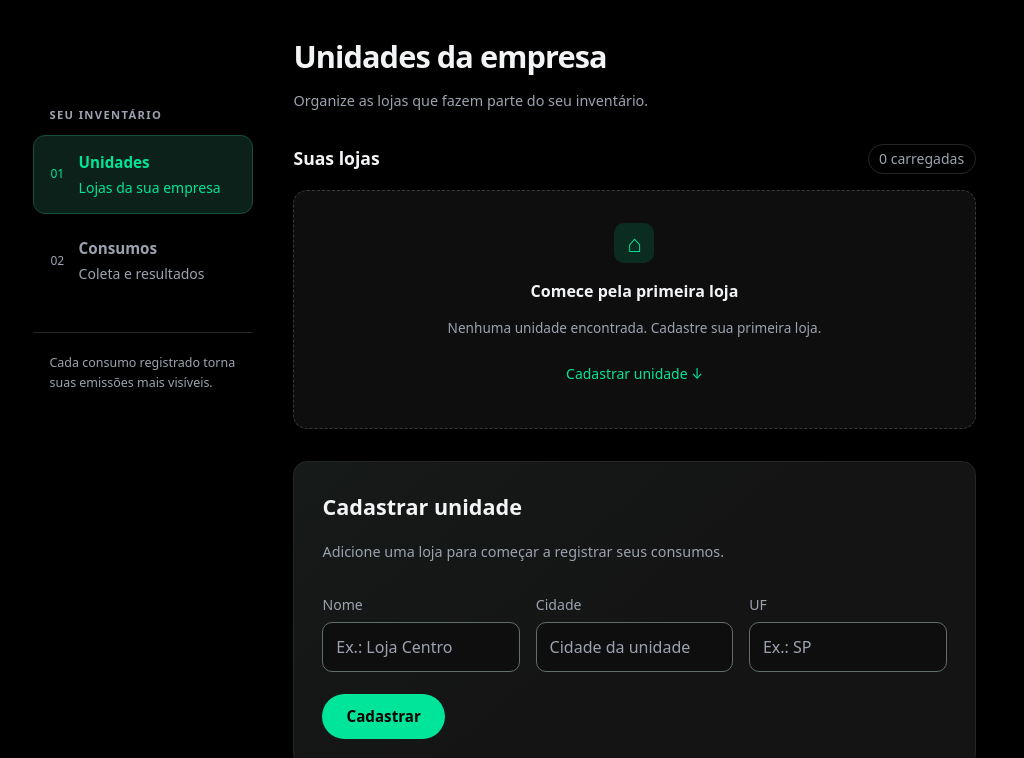
lista vazia possui instrução e campos rotulados
Expected: the text "Nenhuma unidade encontrada. Cadastre sua primeira loja." is shown, [448, 318, 821, 337]
Expected: the field labelled "Nome" is shown, [322, 622, 520, 672]
What coordinates should you click on to do the following:
click the link "02 Consumos Coleta e resultados"
I would click on:
 (128, 261)
Its box is [50, 238, 205, 283].
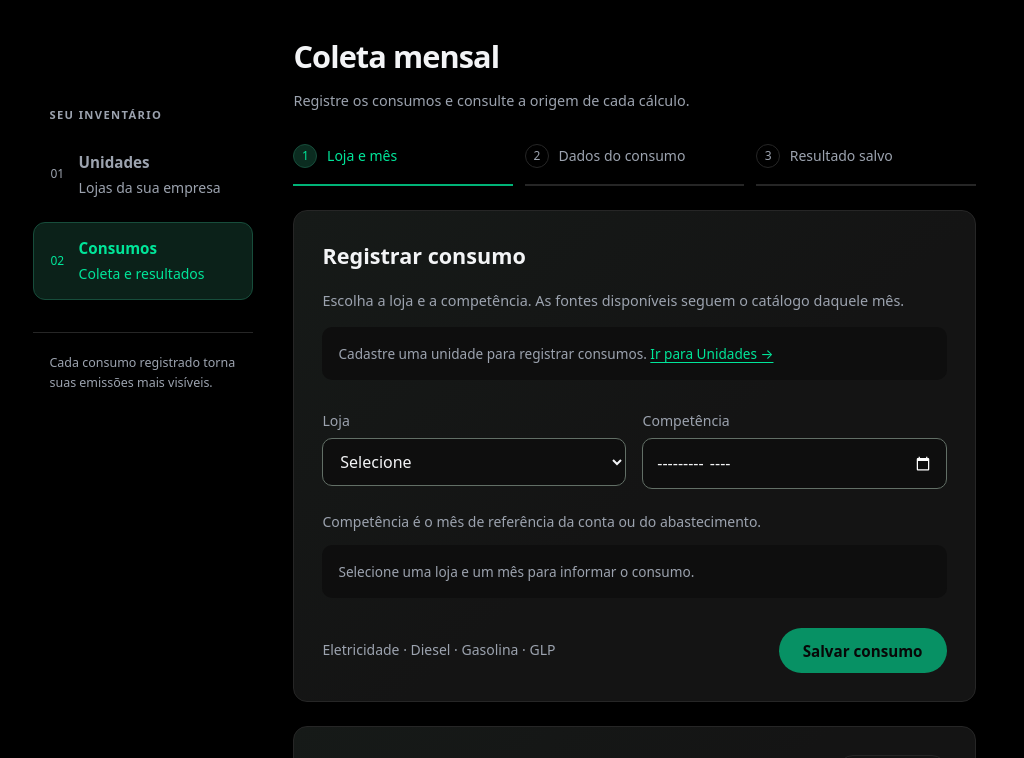
Result: the dropdown labelled "Loja" is shown at [322, 438, 626, 486]
Result: the field labelled "Competência" is shown at [642, 438, 946, 489]
Result: the button "Salvar consumo" is disabled at [779, 628, 947, 673]
